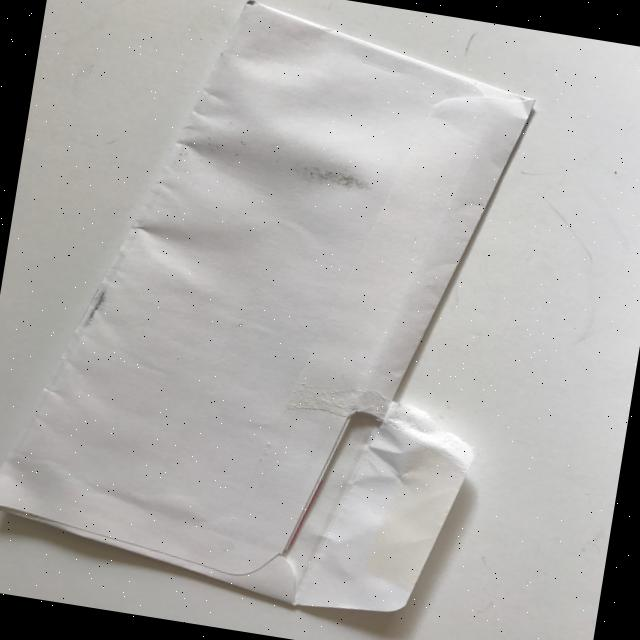paper: (0, 0, 546, 631)
